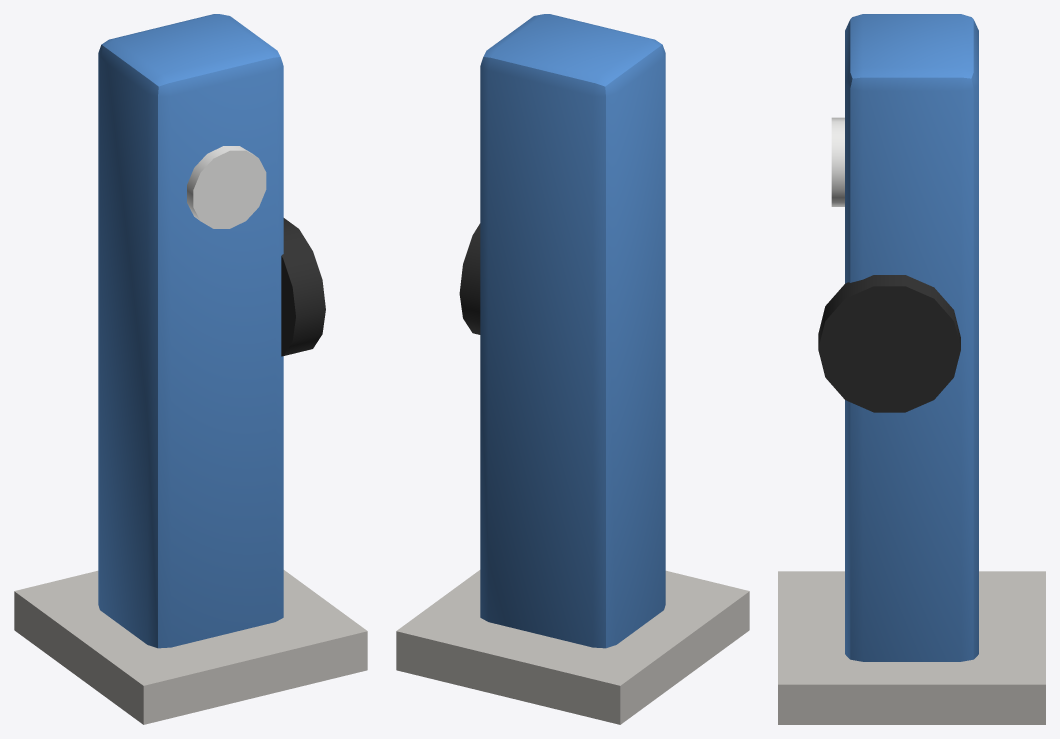
Rendered from gonfleur.glb.
3 renders of one model, left to right at view 1: azimuth 30°, elevation 25°; view 2: azimuth 150°, elevation 25°; view 3: azimuth 270°, elevation 25°, orthographic. The views are drawn at different scales.
Visible parts, largest first — view 1: gonfleur; view 2: gonfleur; view 3: gonfleur.
Boxes of the visible parts, x1,y1,x2,y2 form: gonfleur: [14, 14, 367, 724]; gonfleur: [396, 14, 749, 724]; gonfleur: [778, 14, 1045, 724].
Size of the model in its own units: 0.6 by 1.55 by 0.6.
